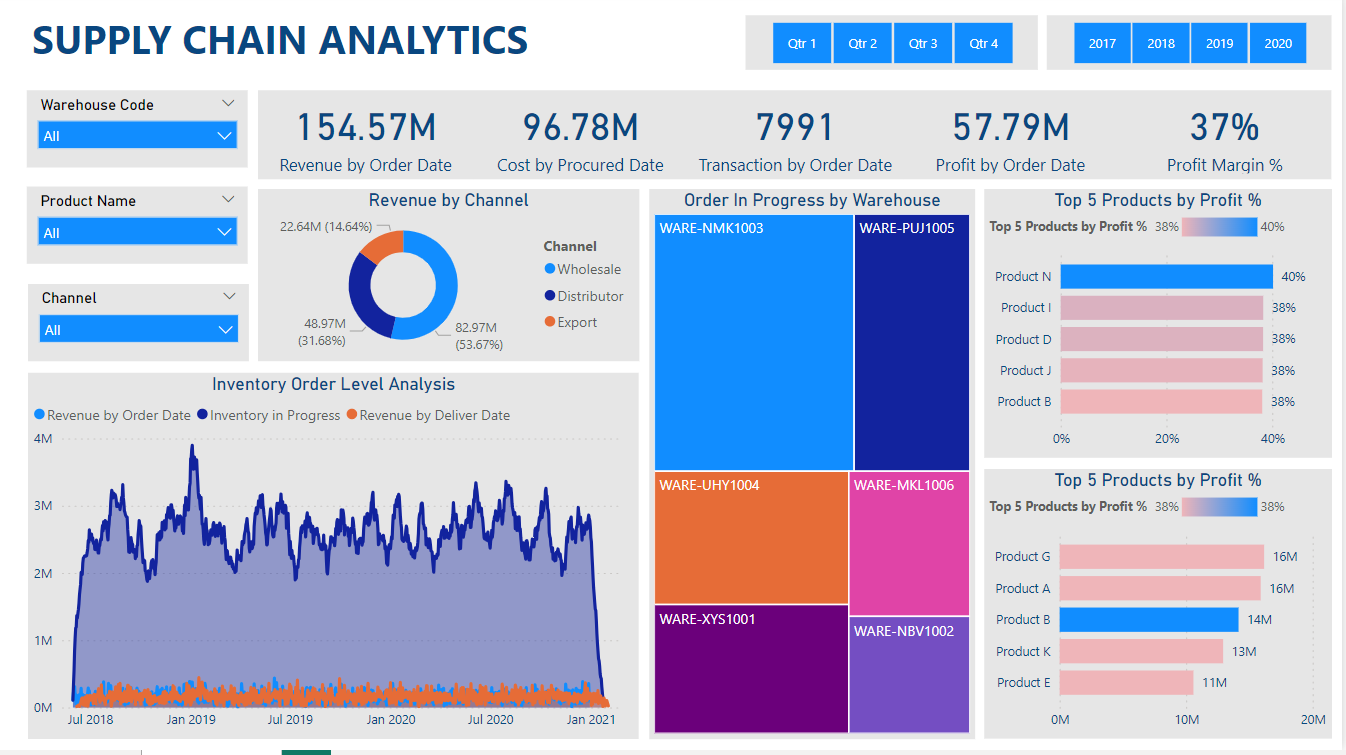

The dashboard page shown, as its layout file describes it:
{"tool":"powerbi","page":{"name":"Supply Chain ","canvas":[1280,720],"ordinal":0},"visuals":[{"type":"card","fields":{"Values":["Specific Calculation.Cost by Procured Date"]},"box":[452.2,91.6,204.7,84.5],"z":0},{"type":"slicer","fields":{"Values":["Dates.Year"]},"box":[998.5,20.2,271.3,52.4],"z":1000},{"type":"slicer","fields":{"Values":["Dates.Date.Variation.Date Hierarchy.Quarter"]},"box":[711.7,20.2,278.5,52.4],"z":2000},{"type":"card","fields":{"Values":["Specific Calculation.Revenue by Oder Date"]},"box":[247.5,91.6,205,84.5],"z":3000},{"type":"textbox","box":[27.4,11.9,523.6,70.2],"z":4000},{"type":"areaChart","title":"Inventory Order Level Analysis","fields":{"Y":["Specific Calculation.Revenue by Order Date","Specific Calculation.Inventory in Progress","Specific Calculation.Revenue by Deliver Date"],"Category":["Dates.Date"]},"box":[28.6,360.6,582,348.7],"z":5000},{"type":"slicer","fields":{"Values":["Warehouse.Warehouse Code"]},"box":[27.4,91.6,210.6,73.8],"z":6000},{"type":"slicer","fields":{"Values":["Products.Product Name"]},"box":[27.4,183.9,210.6,73.8],"z":7000},{"type":"slicer","fields":{"Values":["Sales.Channel"]},"box":[28.6,276.1,210.6,73.8],"z":8000},{"type":"card","fields":{"Values":["Specific Calculation.Profit by Order Date"]},"box":[861.6,91.6,204.7,84.5],"z":9000},{"type":"card","fields":{"Values":["Specific Calculation.Profit Margin %"]},"box":[1066.3,91.6,203.5,84.5],"z":10000},{"type":"card","fields":{"Values":["Specific Calculation.Transaction by Order Date"]},"box":[656.9,91.6,204.7,84.5],"z":11000},{"type":"clusteredBarChart","title":"Top 5 Products by Profit %","fields":{"Y":["Specific Calculation.Top 5 Products by Profit %"],"Category":["Products.Product Name"]},"box":[939,185.7,330.8,255.9],"z":12000},{"type":"clusteredBarChart","title":"Top 5 Products by Profit %","fields":{"Category":["Products.Product Name"],"Y":["Specific Calculation.Top 5 Products by Cost"]},"box":[939,452.2,330.8,257.1],"z":13000},{"type":"treemap","title":"Order In Progress by Warehouse","fields":{"Values":["Specific Calculation.Order In Progress"],"Group":["Warehouse.Warehouse Code"]},"box":[620,185.7,310.6,523.6],"z":14000},{"type":"donutChart","title":"Revenue by Channel","fields":{"Y":["Specific Calculation.Revenue by Order Date"],"Category":["Sales.Channel"]},"box":[247.5,185.7,363,164.2],"z":16000}]}

Visuals, with their boxes in screenshot pixels (x1, y1, x2, y2), scaled from the page's 1280x720 canvas onto the 1346x755 screenshot:
card - Specific Calculation.Cost by Procured Date: region(476, 96, 691, 185)
slicer - Dates.Year: region(1050, 21, 1335, 76)
slicer - Dates.Date.Variation.Date Hierarchy.Quarter: region(748, 21, 1041, 76)
card - Specific Calculation.Revenue by Oder Date: region(260, 96, 476, 185)
textbox: region(29, 12, 579, 86)
"Inventory Order Level Analysis" areaChart: region(30, 378, 642, 744)
slicer - Warehouse.Warehouse Code: region(29, 96, 250, 173)
slicer - Products.Product Name: region(29, 193, 250, 270)
slicer - Sales.Channel: region(30, 290, 252, 367)
card - Specific Calculation.Profit by Order Date: region(906, 96, 1121, 185)
card - Specific Calculation.Profit Margin %: region(1121, 96, 1335, 185)
card - Specific Calculation.Transaction by Order Date: region(691, 96, 906, 185)
"Top 5 Products by Profit %" clusteredBarChart: region(987, 195, 1335, 463)
"Top 5 Products by Profit %" clusteredBarChart: region(987, 474, 1335, 744)
"Order In Progress by Warehouse" treemap: region(652, 195, 979, 744)
"Revenue by Channel" donutChart: region(260, 195, 642, 367)
